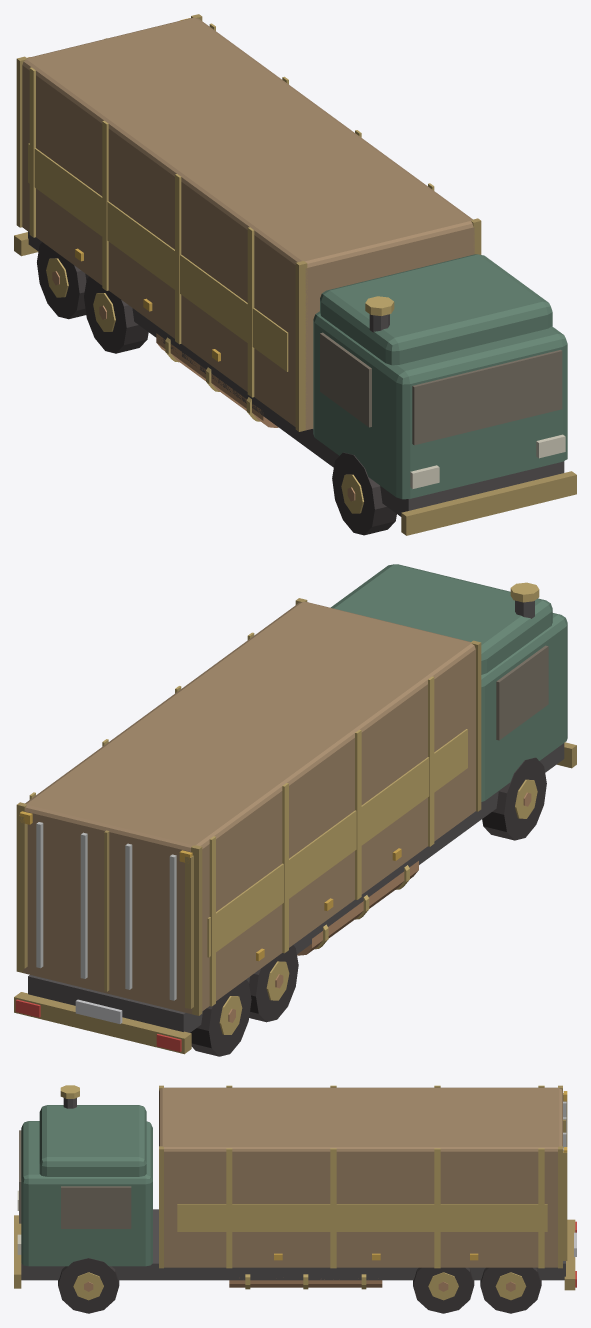
The model's file is noturno-truck.glb.
3 views of the same model, one above another, from view 1: azimuth 30°, elevation 25°; view 2: azimuth 150°, elevation 25°; view 3: azimuth 270°, elevation 25° (orthographic). The views are drawn at different scales.
Parts seen in each view (by area): view 1: noturno_truck_body, noturno_truck_glow; view 2: noturno_truck_body, noturno_truck_glow; view 3: noturno_truck_body, noturno_truck_glow.
Part boxes in pixels (x1=…): noturno_truck_body: x1=14, y1=14, x2=576, y2=535; noturno_truck_glow: x1=27, y1=18, x2=565, y2=488; noturno_truck_body: x1=14, y1=564, x2=576, y2=1056; noturno_truck_glow: x1=15, y1=811, x2=401, y2=1051; noturno_truck_body: x1=14, y1=1085, x2=576, y2=1313; noturno_truck_glow: x1=17, y1=1091, x2=576, y2=1287.
Size of the model in its own units: 2.48 by 3.05 by 9.2.
